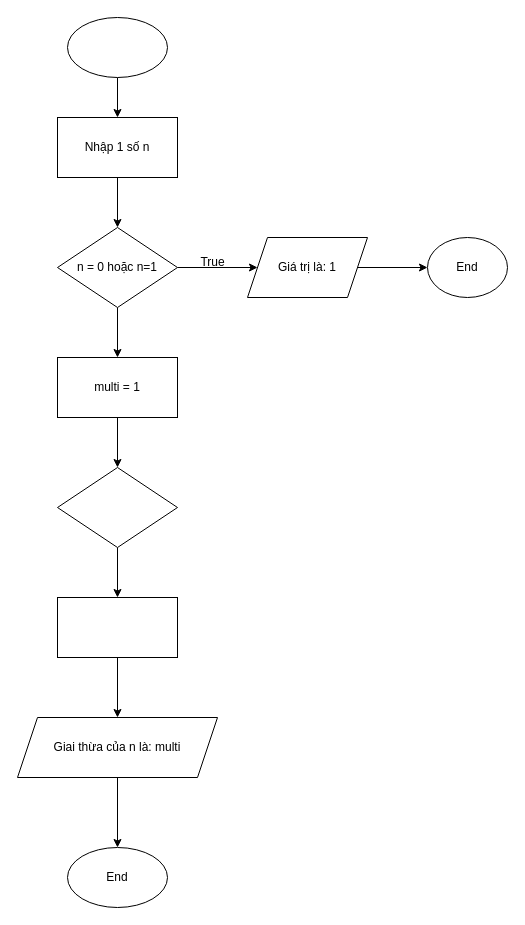
This 525x925 diagram has some shape labels left out. The centre of each missing label's shape, as x and y in pixels:
"for(int i=2; i<=n; i++)" goes at point (117, 507).
"multi *= i" goes at point (117, 627).
"Start" goes at point (117, 47).
